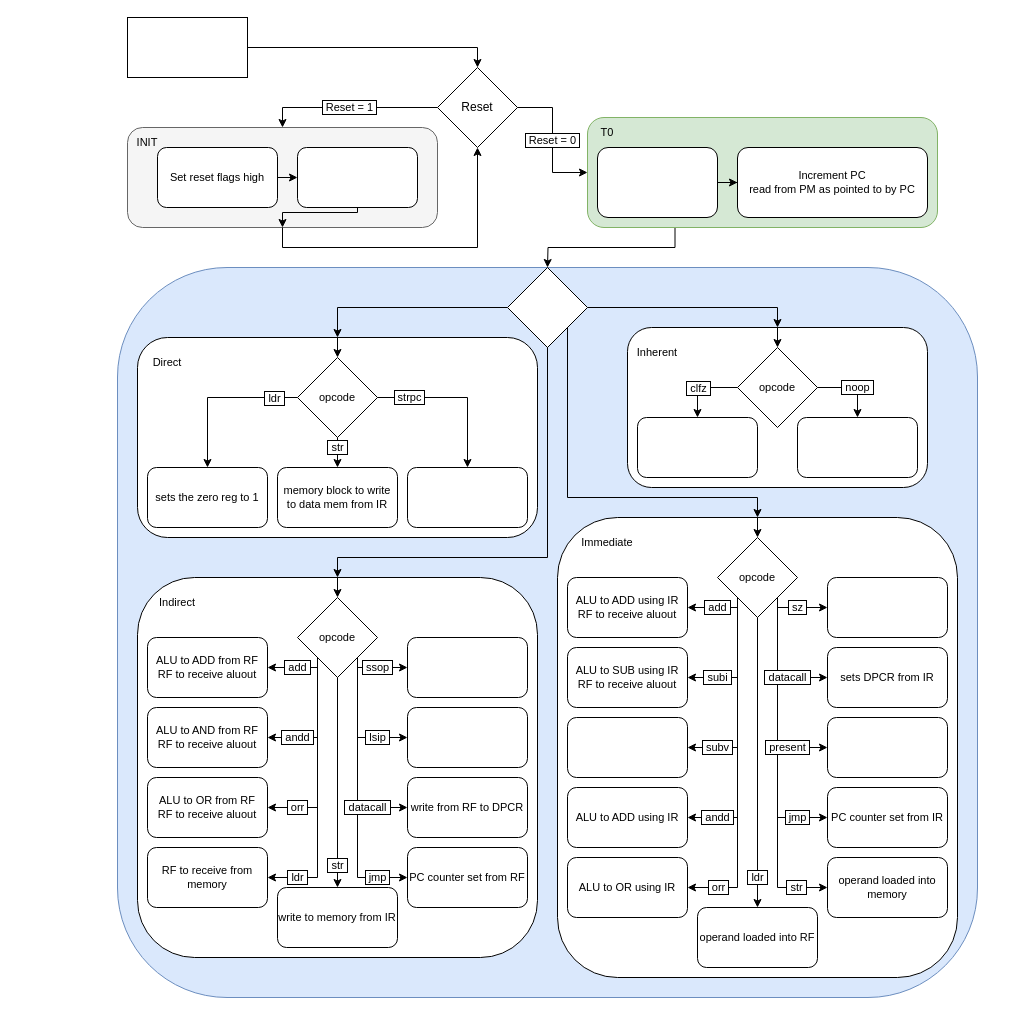
This 1024x1015 diagram has some shape labels left out. The centre of each missing label's shape, as x and y in pixels:
Addressing Mode: point 547,307
ALU to SUB using IR: point 627,747
clear the zero reg: point 697,447
if operand = 0 then PC set from IR: point 887,747
if zero flag = 1 then PC set from IR: point 887,607
loads from RF into SSOP: point 467,667
loads SIP into RF: point 467,737
memory block to write to data mem from PC: point 467,497
no operation: point 857,447
rising_edge(Clock) or sensitivity(Reset): point 187,47
Set all reset flags LOW Set relevant write flags HIGH: point 657,182
Set write flags low: point 357,177
